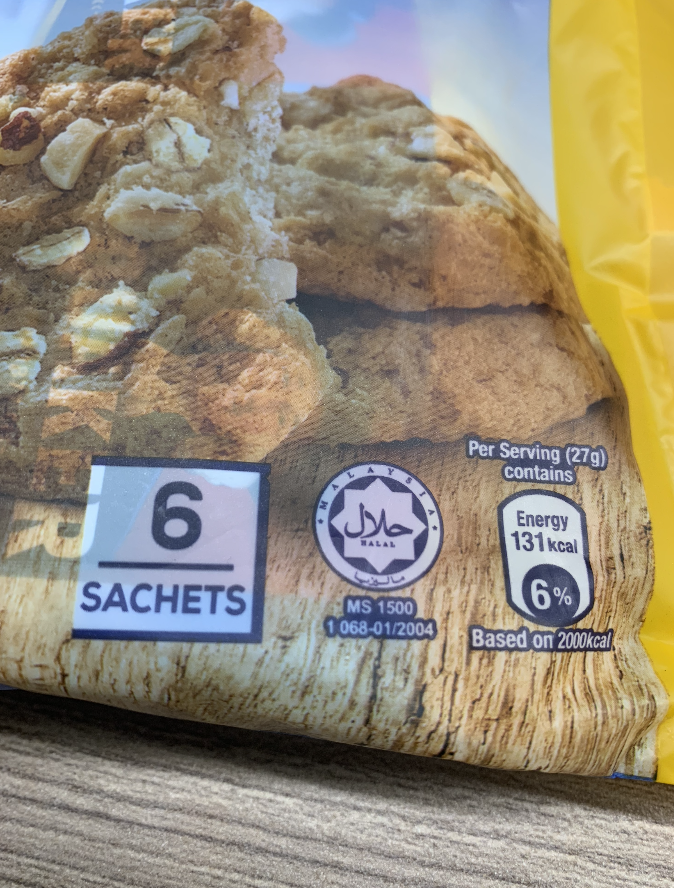halal: (344, 489, 417, 562)
